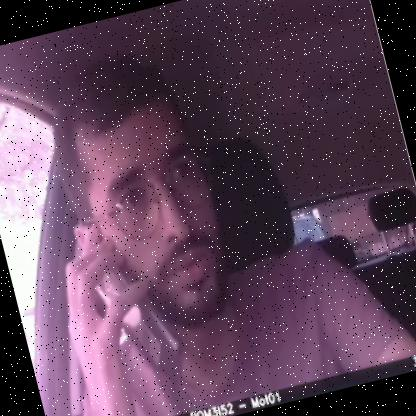phone: (69, 212, 197, 410)
